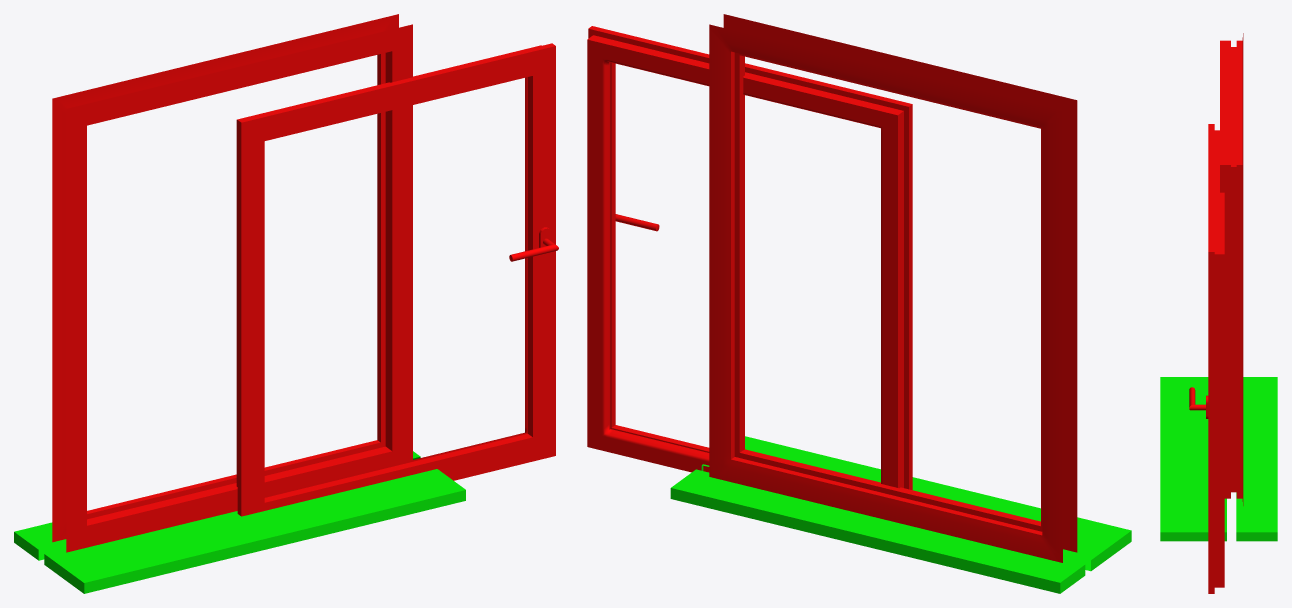
Rendered from InnerWindow01_high.FBX.
The picture shows the model from 3 angles, left to right: view 1: azimuth 30°, elevation 25°; view 2: azimuth 150°, elevation 25°; view 3: azimuth 270°, elevation 25°; orthographic projection. The views are drawn at different scales.
Visible parts, largest first — view 1: InnerWindow01_Frame_high, InnerWindow01_WindowLeft_high, InnerWindow01_Wall_high; view 2: InnerWindow01_Frame_high, InnerWindow01_WindowLeft_high, InnerWindow01_Wall_high; view 3: InnerWindow01_Wall_high, InnerWindow01_Frame_high, InnerWindow01_WindowLeft_high, Inner_DoorGrip01_high.
Part boxes in pixels (box(x1,y1,x2,y2)): InnerWindow01_Frame_high: box(52, 14, 412, 552); InnerWindow01_WindowLeft_high: box(236, 43, 555, 516); InnerWindow01_Wall_high: box(14, 451, 465, 593); InnerWindow01_Frame_high: box(709, 14, 1077, 562); InnerWindow01_WindowLeft_high: box(587, 26, 912, 489); InnerWindow01_Wall_high: box(670, 436, 1131, 593); InnerWindow01_Wall_high: box(1160, 377, 1277, 541); InnerWindow01_Frame_high: box(1220, 33, 1243, 505); InnerWindow01_WindowLeft_high: box(1208, 124, 1224, 593); Inner_DoorGrip01_high: box(1189, 387, 1205, 410).
Bounding box in the file's own units: 144 × 35 × 127.
